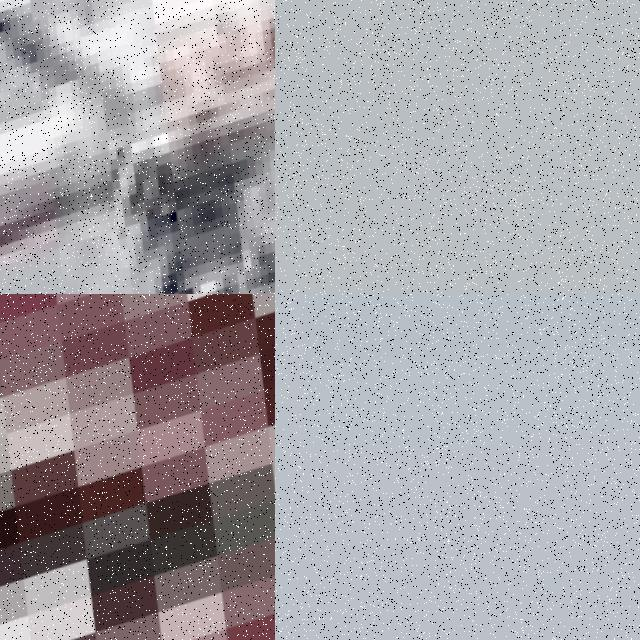drone: (0, 294, 275, 640), (0, 0, 275, 294)
